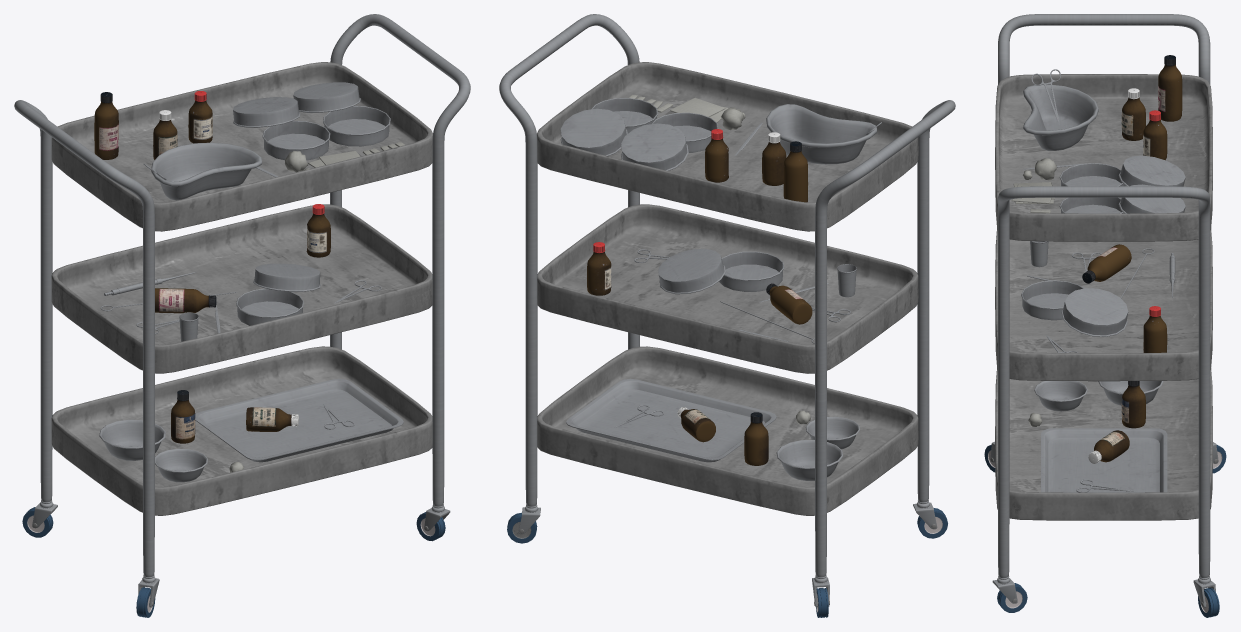
Rendered from medical_props.glb.
3 views of the same model, side by side, from view 1: azimuth 30°, elevation 25°; view 2: azimuth 150°, elevation 25°; view 3: azimuth 270°, elevation 25° (orthographic).
Parts seen in each view (by area): view 1: Circle.007, prop; view 2: Circle.007, prop; view 3: Circle.007, prop.
Boxes of the visible parts, x1=… form: Circle.007: x1=14, y1=14, x2=470, y2=617; prop: x1=94, y1=82, x2=404, y2=482; Circle.007: x1=499, y1=14, x2=955, y2=617; prop: x1=560, y1=94, x2=881, y2=480; Circle.007: x1=984, y1=14, x2=1226, y2=617; prop: x1=1012, y1=55, x2=1185, y2=492.
Size of the model in its own units: 2.09 by 2.43 by 1.2.
2 materials, 2 textured.
